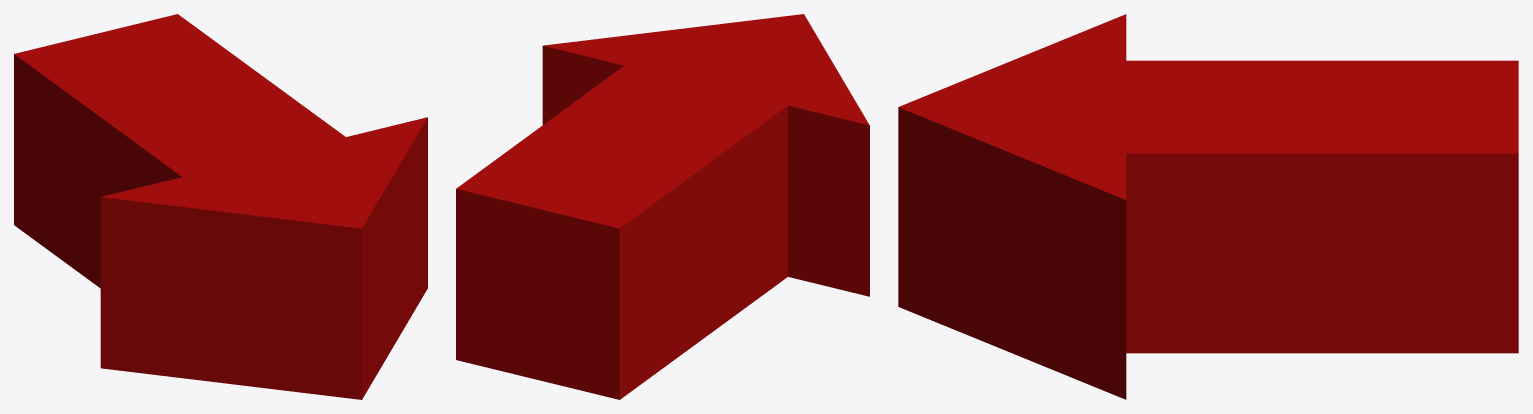
File: arrow.fbx
3 views of the same model, side by side, from view 1: azimuth 30°, elevation 25°; view 2: azimuth 150°, elevation 25°; view 3: azimuth 270°, elevation 25° (orthographic). The views are drawn at different scales.
Parts seen in each view (by area): view 1: Cube; view 2: Cube; view 3: Cube.
Part boxes in pixels (x1,y1,x2,y2): Cube: [14, 14, 427, 399]; Cube: [456, 14, 869, 399]; Cube: [898, 14, 1518, 399].
Bounding box in the file's own units: 400 × 200 × 563.
1 material, 1 textured.
